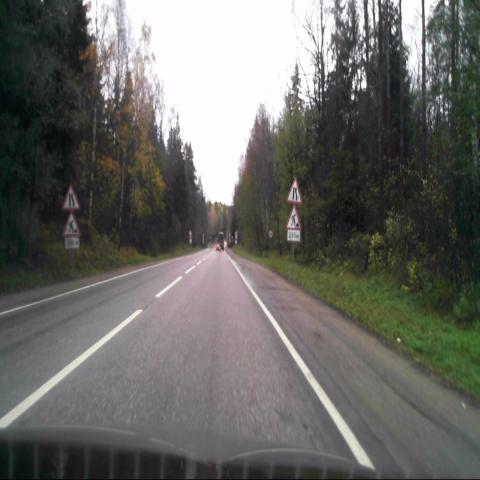1_20_2: (286, 176, 302, 204)
